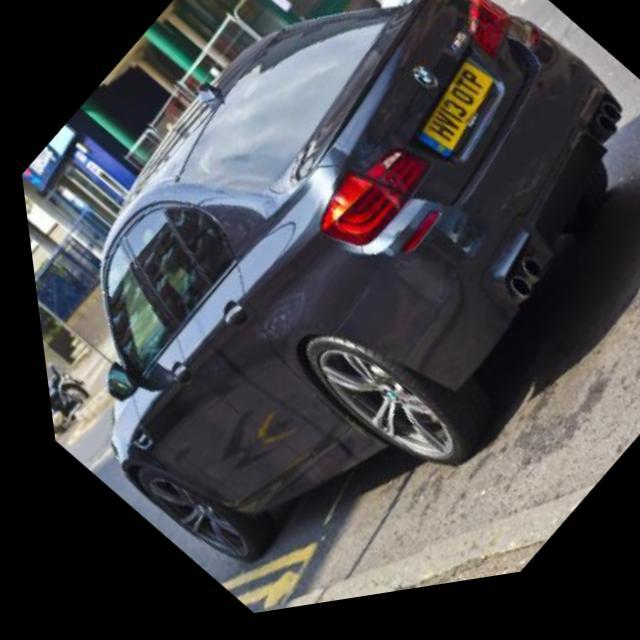license_plate: (396, 67, 509, 179)
